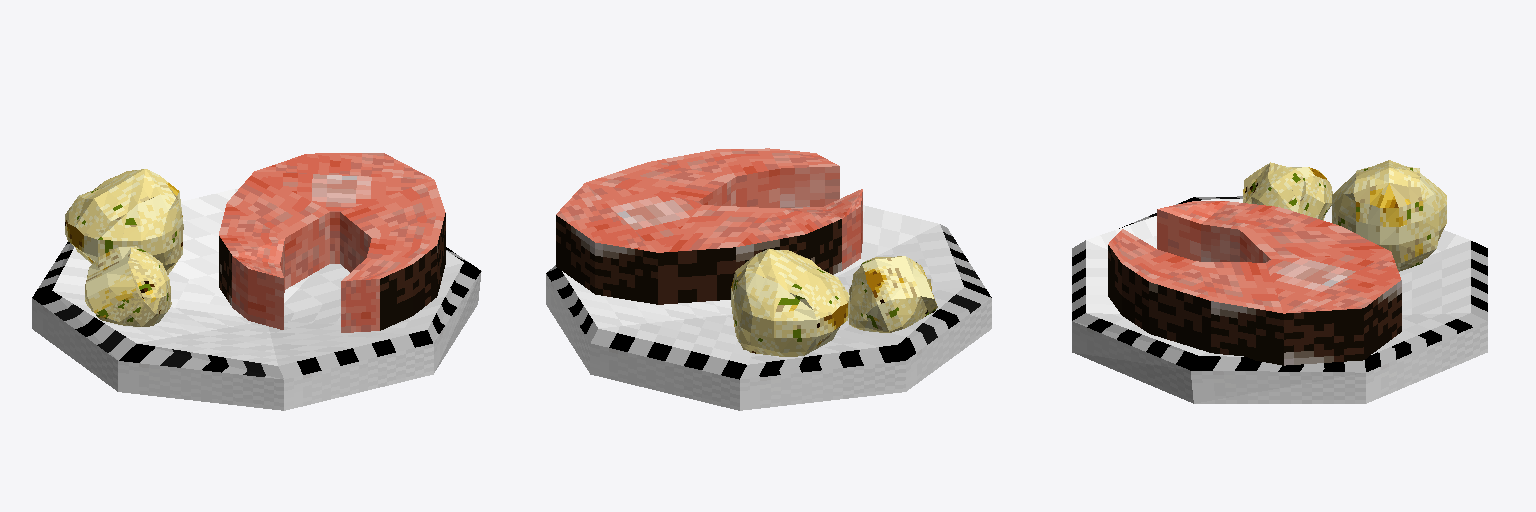
The picture shows the model from 3 angles: view 1: azimuth 30°, elevation 25°; view 2: azimuth 150°, elevation 25°; view 3: azimuth 270°, elevation 25°; orthographic projection.
Visible parts, largest first — view 1: Default; view 2: Default; view 3: Default.
Boxes of the visible parts, x1,y1,x2,y2 form: Default: [32, 153, 481, 410]; Default: [546, 148, 991, 410]; Default: [1072, 160, 1487, 403].
Size of the model in its own units: 2.73 by 0.8795 by 2.72.
4 materials, 4 textured.